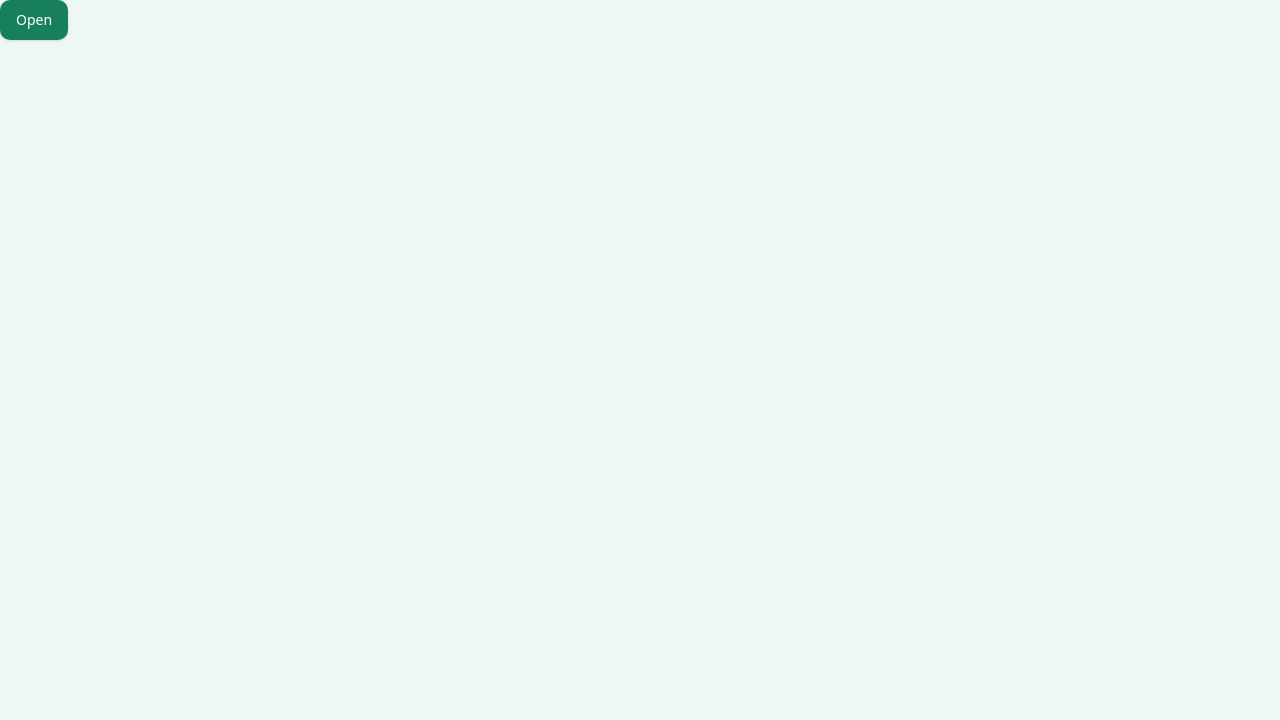
Test: ConfirmProvider › resolves false on cancel and true only after the required text is typed
The image size is (1280, 720).
Later steps or results of the test are not shown.
Click the button "Open" at (34, 20), box [0, 0, 68, 40]
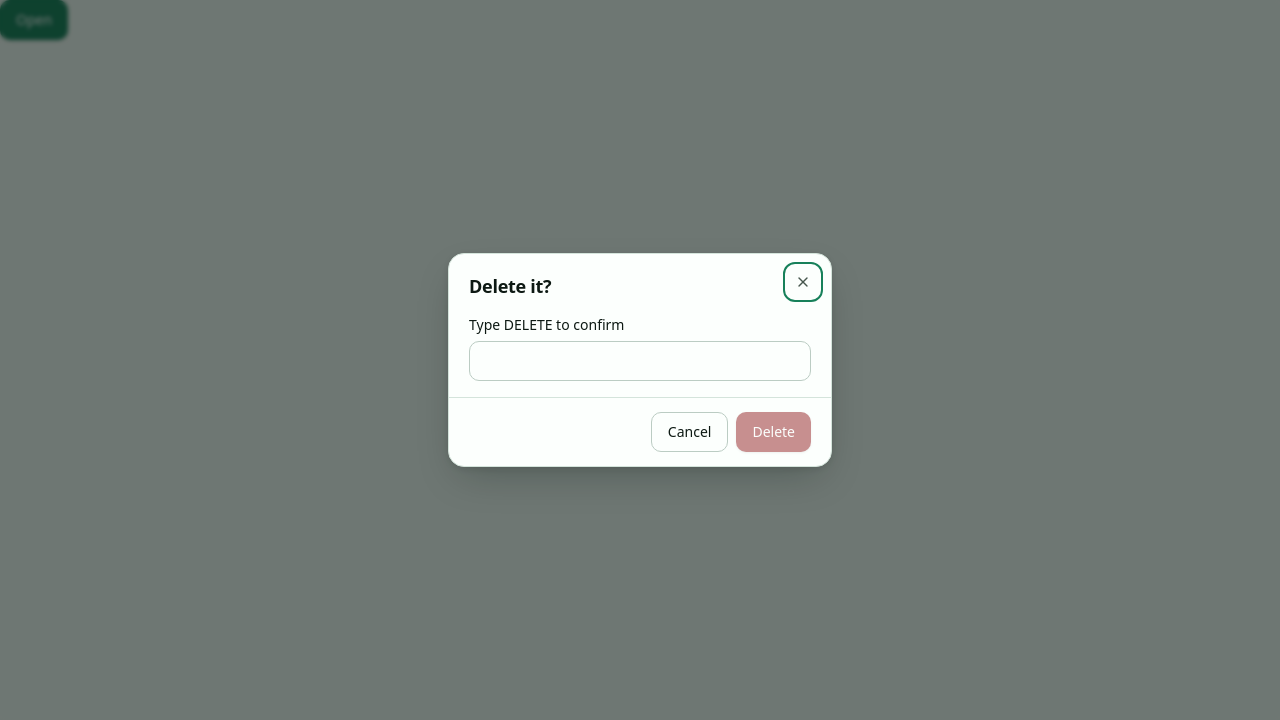
Click the button "Cancel" at (690, 432), box [651, 412, 728, 452]
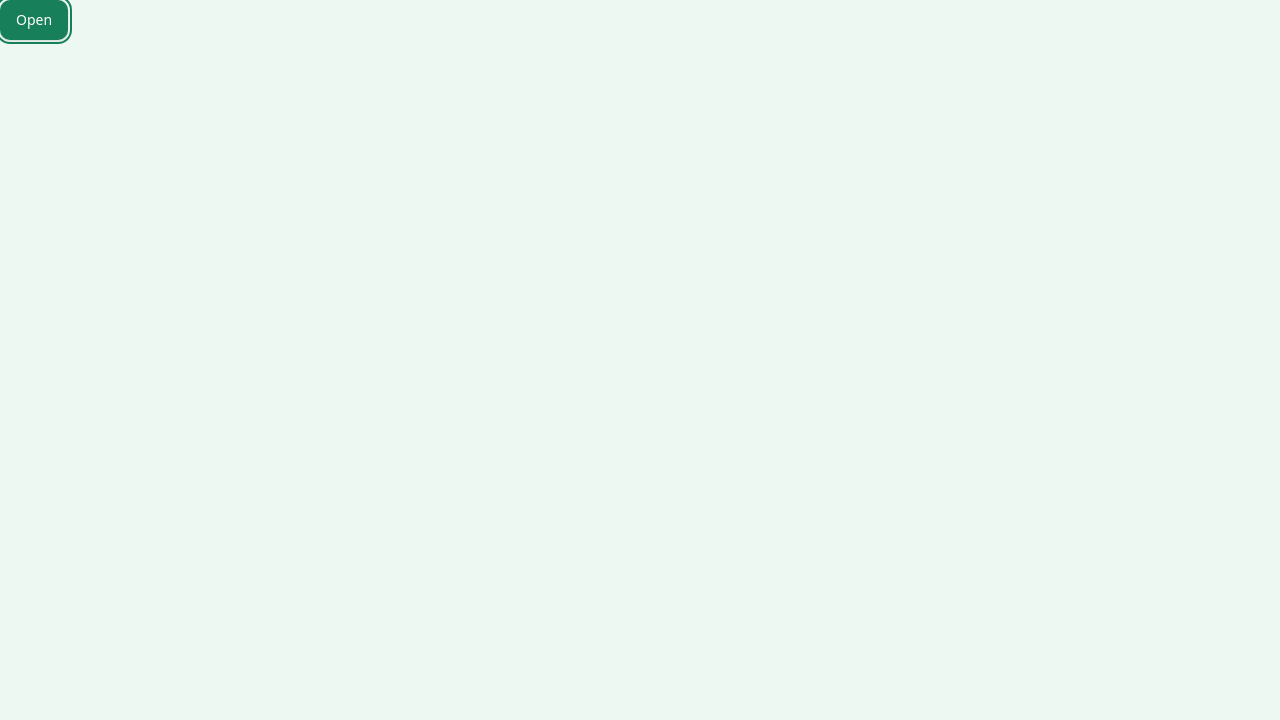
Click the button "Open" at (34, 20), box [0, 0, 68, 40]
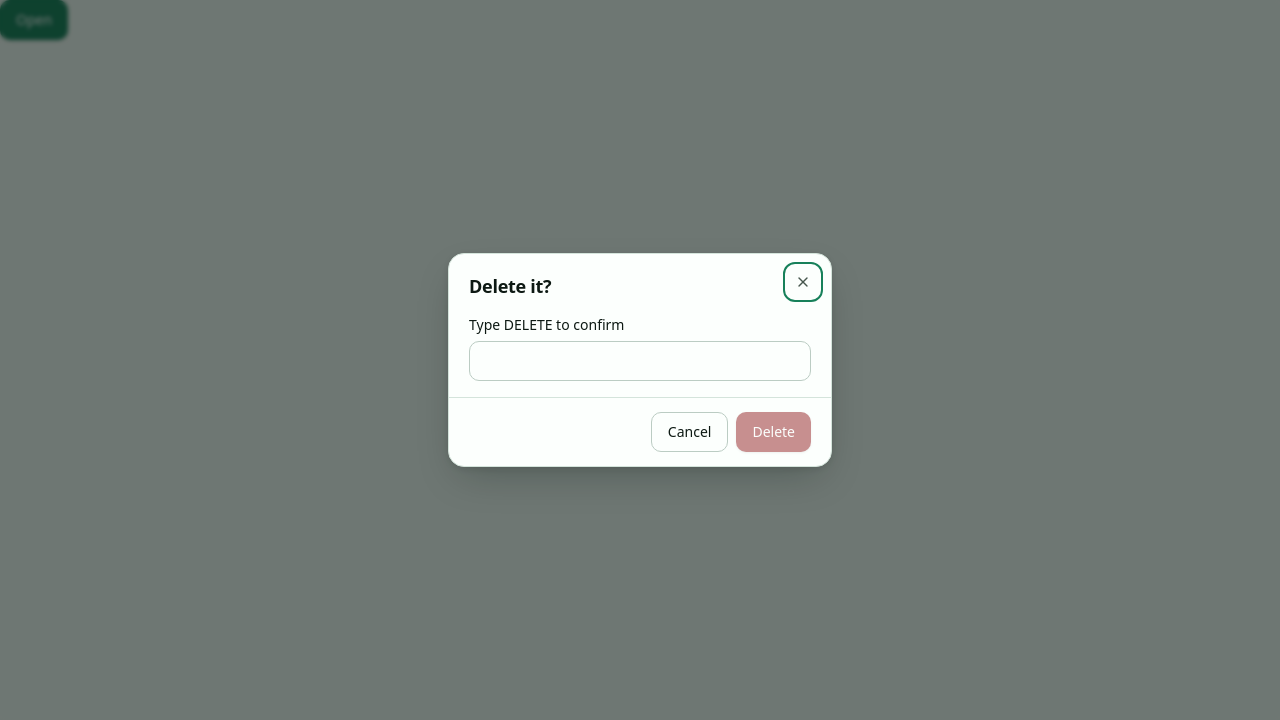
expect the button "Delete" is disabled: met, box [736, 412, 811, 452]
Type "DELETE" into the field labelled "Type DELETE to confirm" at (640, 361), box [469, 341, 811, 381]
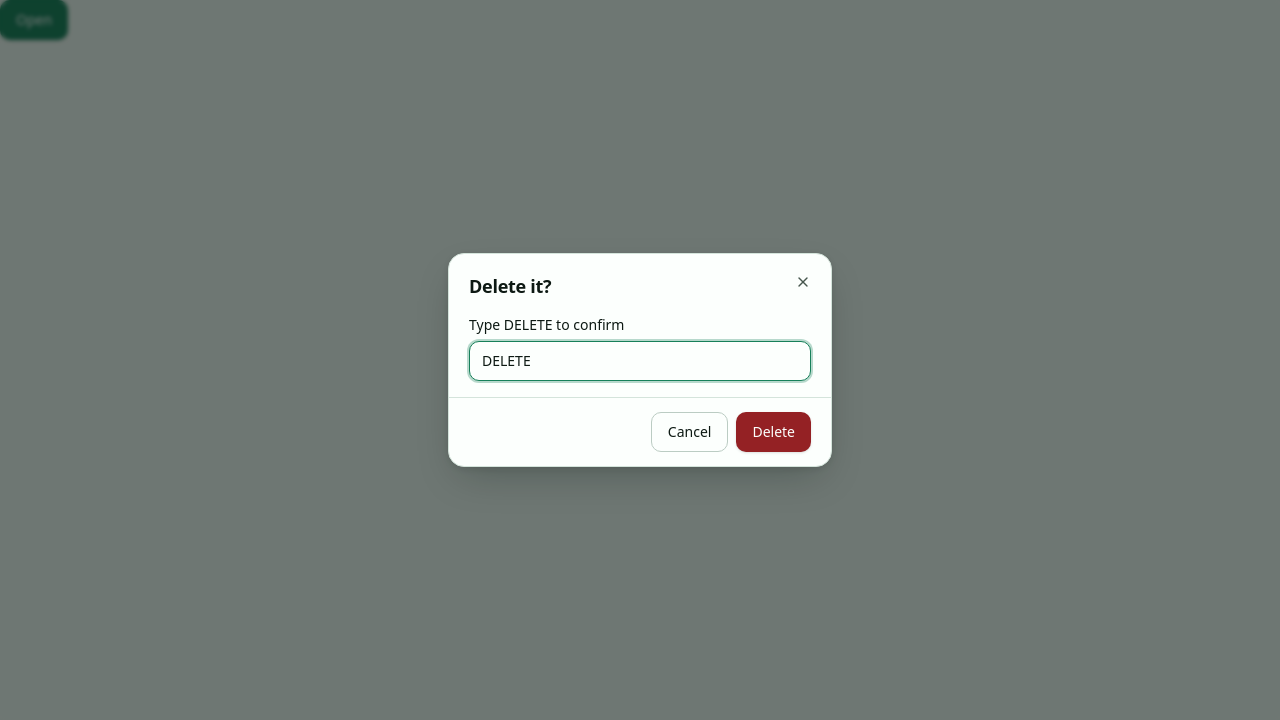
expect the button "Delete" is enabled: met, box [736, 412, 811, 452]
